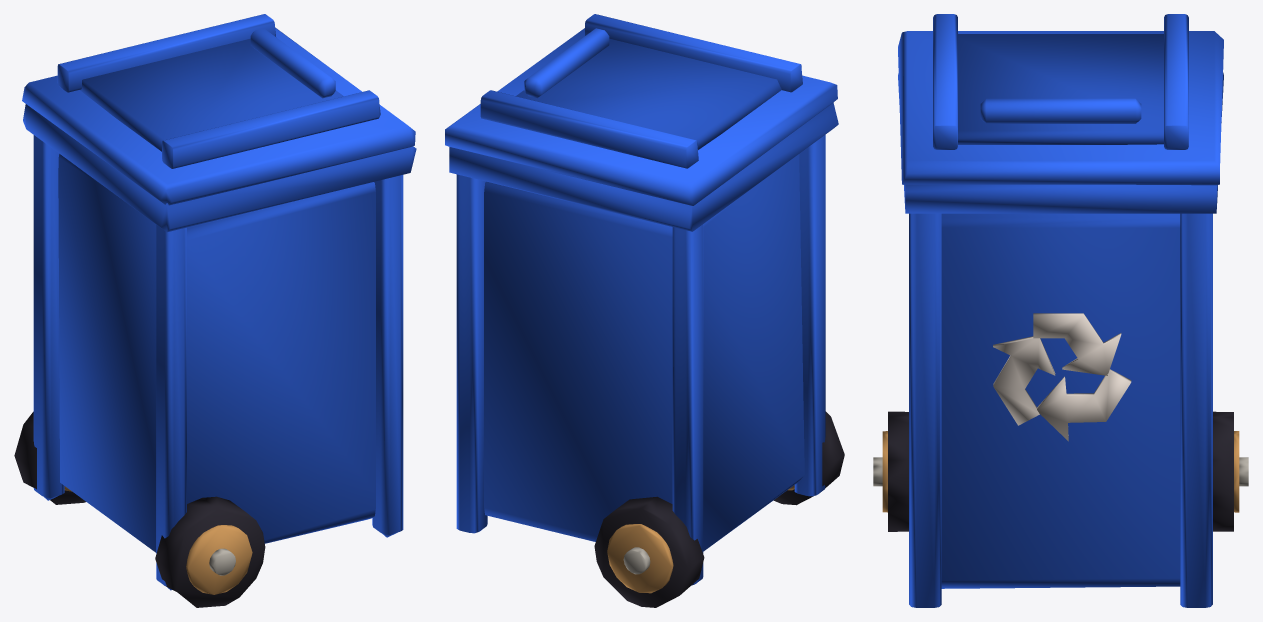
File: prop.recycling-bin.lod1.glb
3 renders of one model, left to right at view 1: azimuth 30°, elevation 25°; view 2: azimuth 150°, elevation 25°; view 3: azimuth 270°, elevation 25°, orthographic. The views are drawn at different scales.
Bounding box in the file's own units: 0.65 × 1.12 × 0.7478.
